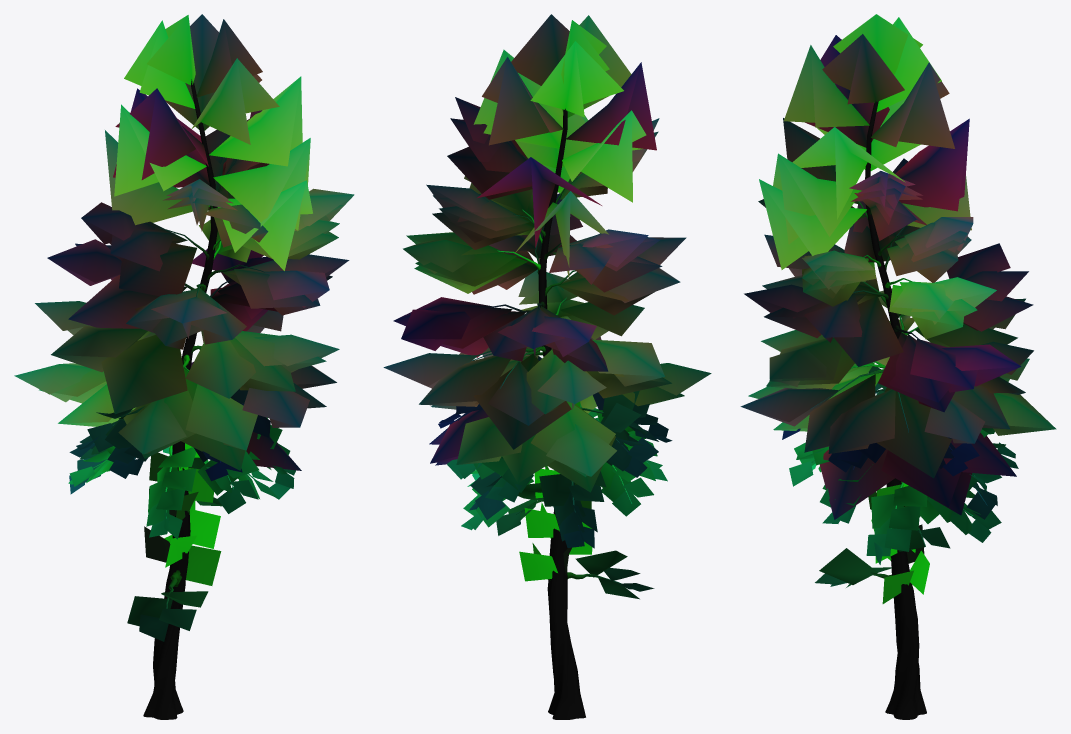
The model's file is Arbol4.fbx.
3 views of the same model, side by side, from view 1: azimuth 30°, elevation 25°; view 2: azimuth 150°, elevation 25°; view 3: azimuth 270°, elevation 25° (orthographic). The views are drawn at different scales.
Parts seen in each view (by area): view 1: Tree_1, Tree_2, Tree_0; view 2: Tree_1, Tree_2, Tree_0; view 3: Tree_1, Tree_2, Tree_0.
Boxes of the visible parts, x1,y1,x2,y2 form: Tree_1: (14, 14, 354, 470); Tree_2: (68, 389, 295, 641); Tree_0: (93, 79, 264, 719); Tree_1: (383, 14, 711, 492); Tree_2: (438, 354, 672, 599); Tree_0: (450, 108, 649, 719); Tree_1: (740, 14, 1056, 519); Tree_2: (782, 366, 1018, 603); Tree_0: (810, 100, 987, 719).
Size of the model in its own units: 321 by 821 by 335.
